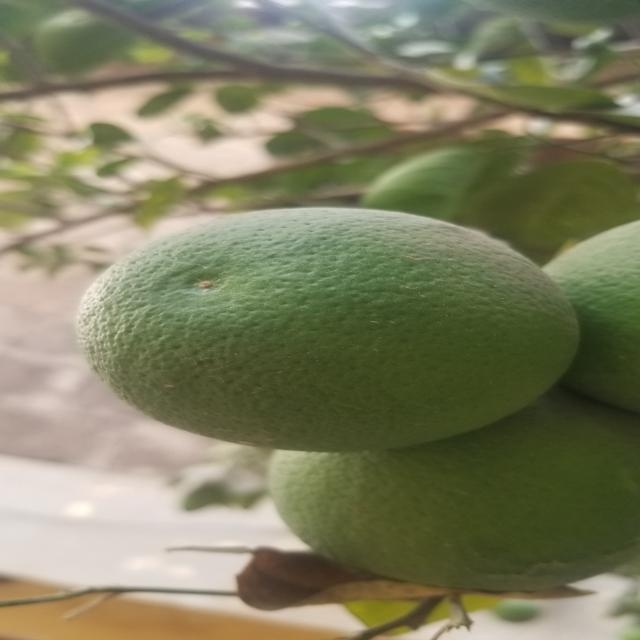agrume: (91, 208, 575, 449), (271, 440, 640, 579), (532, 218, 640, 418)
